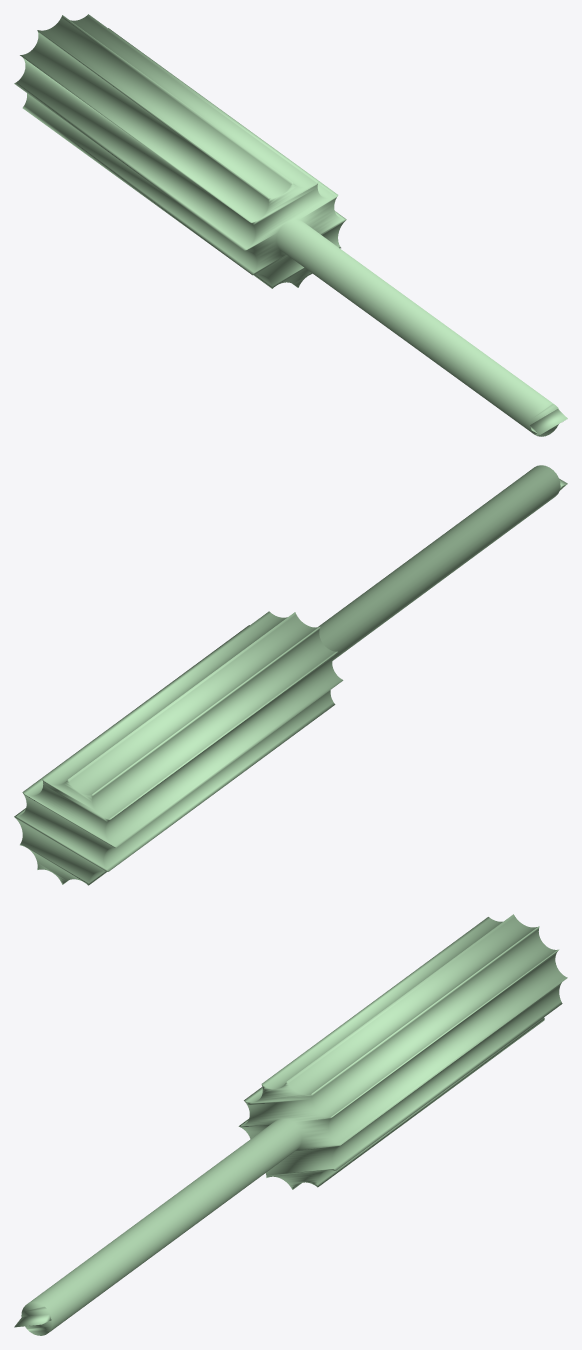
The model's file is screwdriver1_0.dae.
3 views of the same model, one above another, from view 1: azimuth 30°, elevation 25°; view 2: azimuth 150°, elevation 25°; view 3: azimuth 330°, elevation 25° (orthographic).
Parts seen in each view (by area): view 1: screwdriver1_019; view 2: screwdriver1_019; view 3: screwdriver1_019.
Boxes of the visible parts, box(x1,y1,x2,y2) form: screwdriver1_019: box(14, 14, 567, 436); screwdriver1_019: box(14, 465, 567, 885); screwdriver1_019: box(14, 914, 567, 1335).
Bounding box in the file's own units: 0.0454 × 0.3695 × 0.0448.
